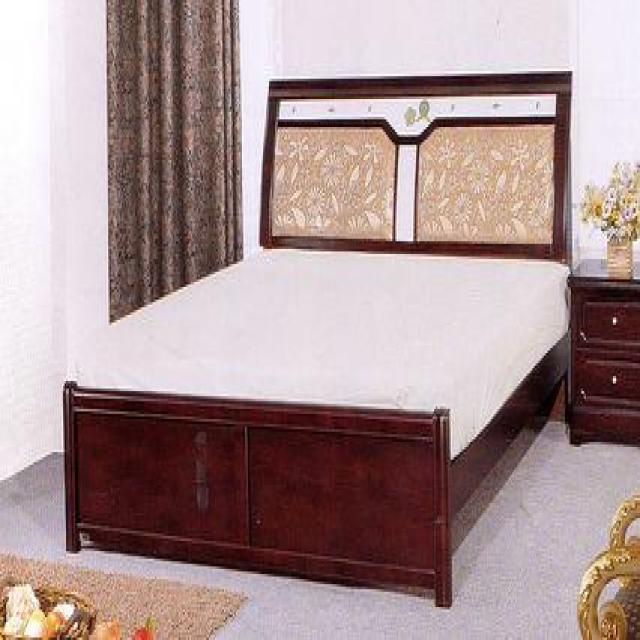bed: (61, 69, 574, 607)
chair: (576, 492, 638, 638)
